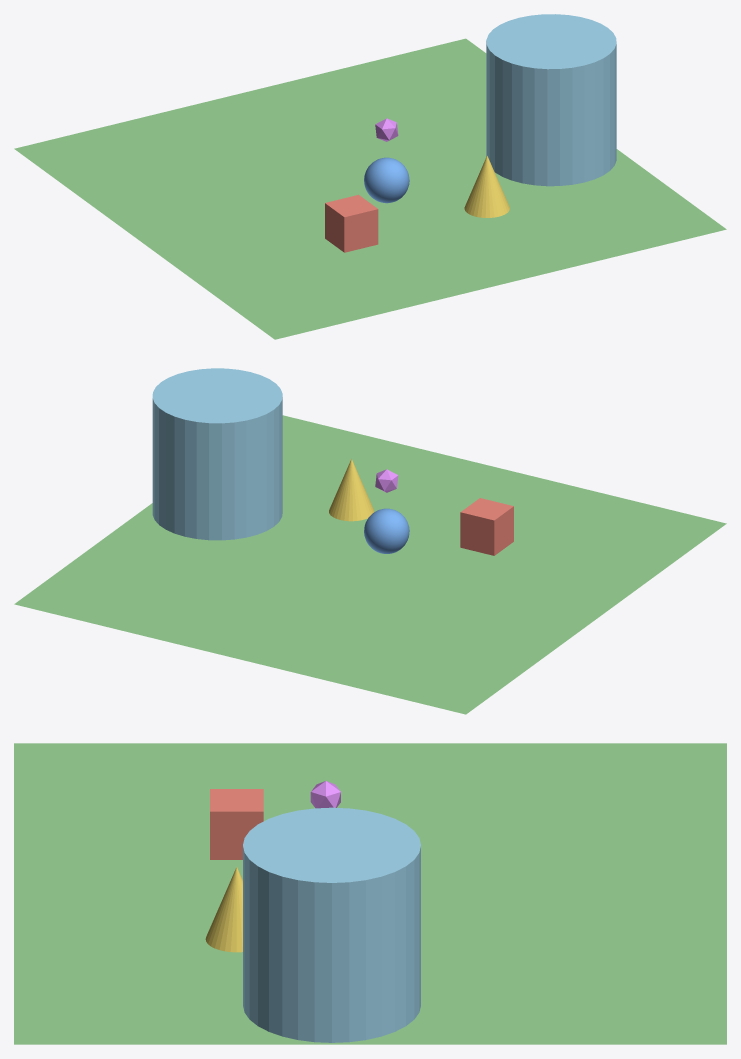
Rendered from portal-tap-starter.glb.
3 views of the same model, one above another, from view 1: azimuth 30°, elevation 25°; view 2: azimuth 150°, elevation 25°; view 3: azimuth 270°, elevation 25° (orthographic). The views are drawn at different scales.
Visible parts, largest first — view 1: Floor, cycy, Box, Ball, Cone; view 2: Floor, cycy, Box, Ball, Cone; view 3: Floor, cycy, Box, Cone, Gem.
Part boxes in pixels (x1,y1,x2,y2): Floor: (14, 38, 726, 339); cycy: (486, 14, 616, 186); Box: (325, 194, 378, 252); Ball: (364, 157, 409, 203); Cone: (464, 155, 509, 217); Floor: (14, 415, 726, 714); cycy: (152, 368, 282, 540); Box: (460, 498, 513, 555); Ball: (364, 508, 409, 553); Cone: (329, 459, 374, 521); Floor: (14, 743, 726, 1044); cycy: (243, 807, 420, 1042); Box: (210, 789, 263, 859); Cone: (205, 867, 242, 952); Gem: (310, 781, 340, 808).
Size of the model in its own units: 8 by 2 by 8.
